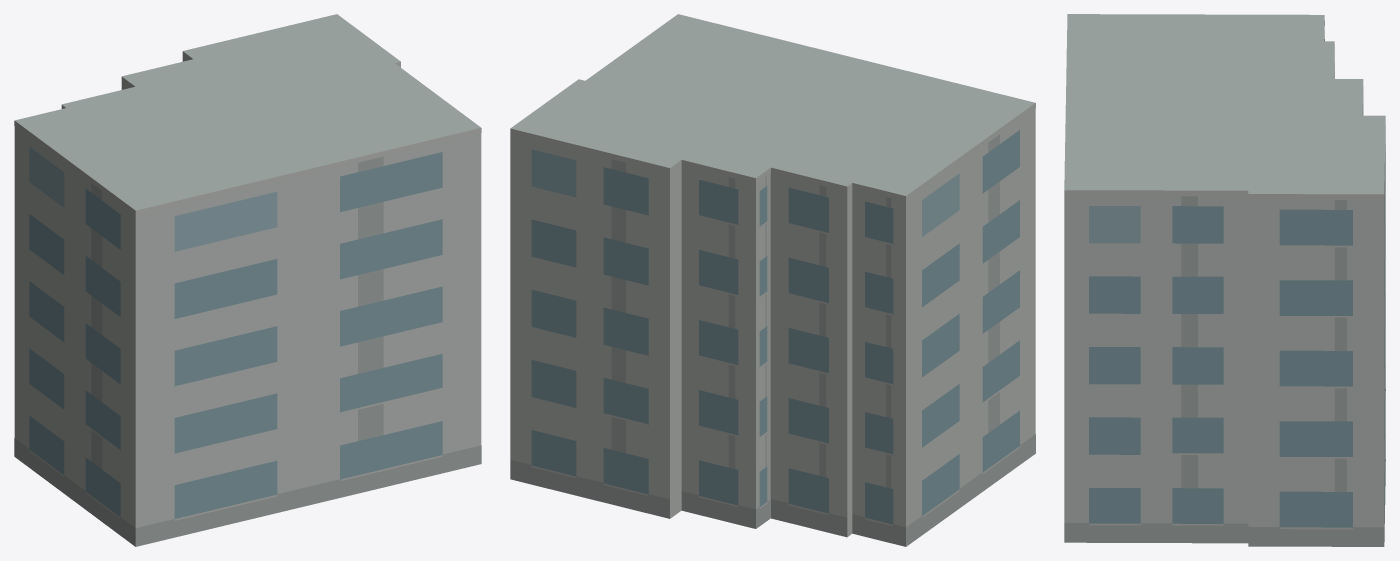
File: survey-upis-32986421.glb
3 renders of one model, left to right at view 1: azimuth 30°, elevation 25°; view 2: azimuth 150°, elevation 25°; view 3: azimuth 270°, elevation 25°, orthographic. The views are drawn at different scales.
Visible parts, largest first — view 1: survey-upis-32986421.tmp; view 2: survey-upis-32986421.tmp; view 3: survey-upis-32986421.tmp.
Part boxes in pixels (x1,y1,x2,y2): survey-upis-32986421.tmp: [14, 14, 481, 546]; survey-upis-32986421.tmp: [510, 14, 1035, 546]; survey-upis-32986421.tmp: [1064, 14, 1385, 546].
Size of the model in its own units: 16.74 by 15.25 by 12.61.
